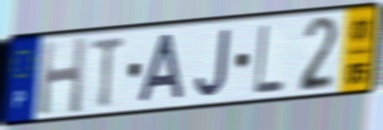2: (297, 14, 340, 95)
A: (135, 31, 186, 106)
H: (36, 34, 88, 118)
J: (194, 27, 233, 99)
L: (252, 21, 285, 96)
T: (90, 34, 128, 111)
